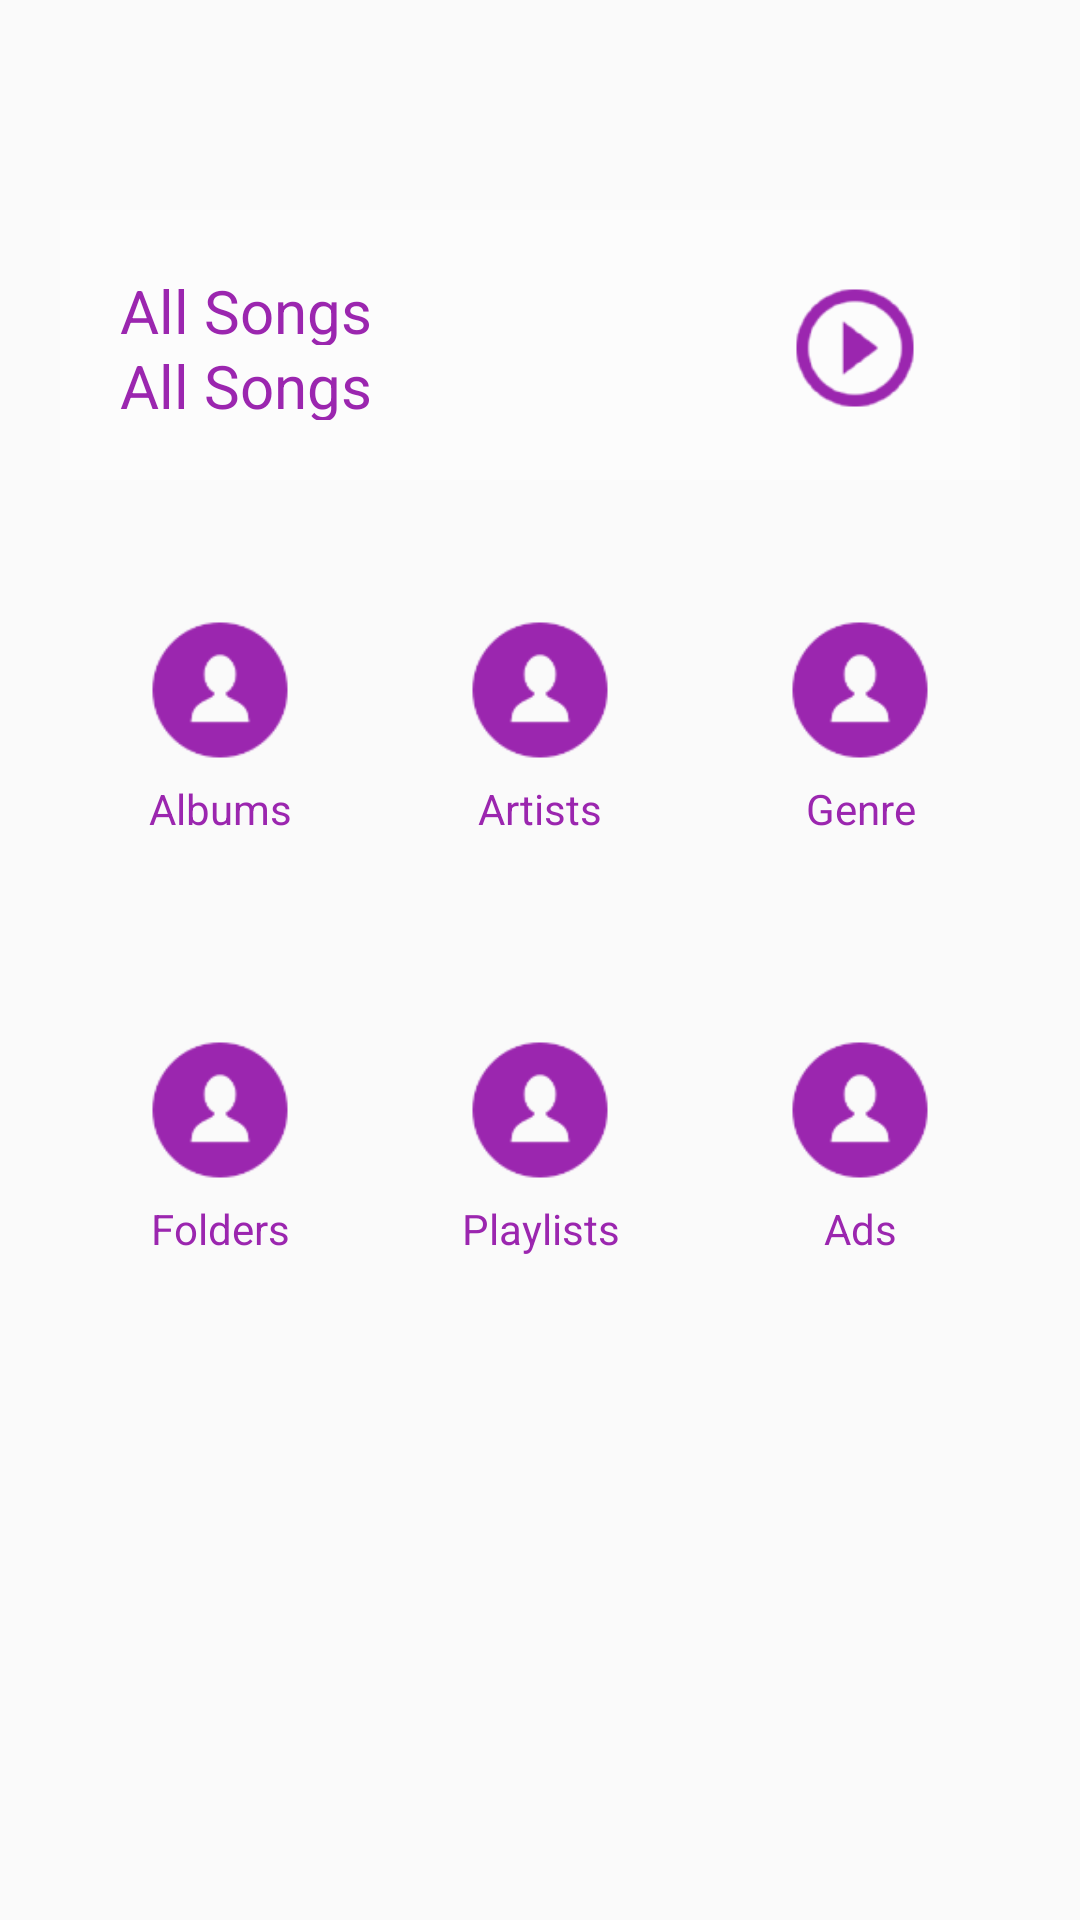

Icons on this 1080px x 1920px Android screen, each with the point to tap as (x=x, y=y):
play circle: (x=855, y=348)
